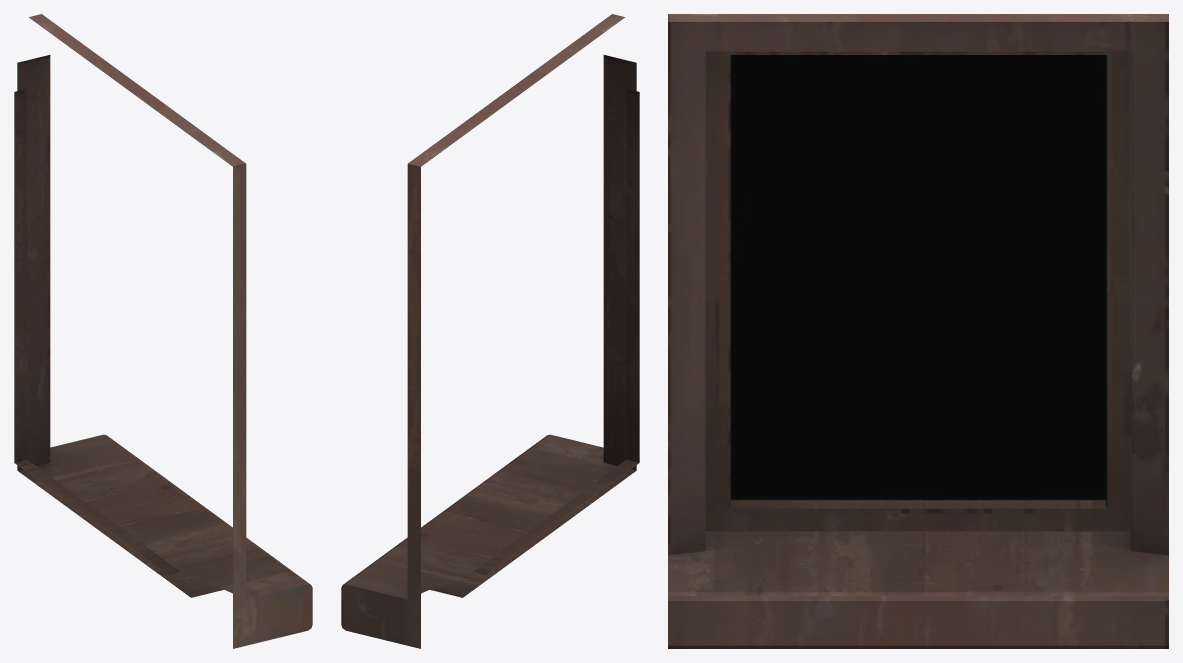
The picture shows the model from 3 angles, left to right: view 1: azimuth 30°, elevation 25°; view 2: azimuth 150°, elevation 25°; view 3: azimuth 270°, elevation 25°; orthographic projection. The views are drawn at different scales.
Visible parts, largest first — view 1: body0_model0_lod0_mesh0; view 2: body0_model0_lod0_mesh0; view 3: body0_model0_lod0_mesh0.
Part boxes in pixels (x1,y1,x2,y2): body0_model0_lod0_mesh0: (14,14,312,648); body0_model0_lod0_mesh0: (341,14,639,648); body0_model0_lod0_mesh0: (668,14,1168,648).
Size of the model in its own units: 13.5 by 52 by 40.
Materials: 1 (1 with a texture image).
